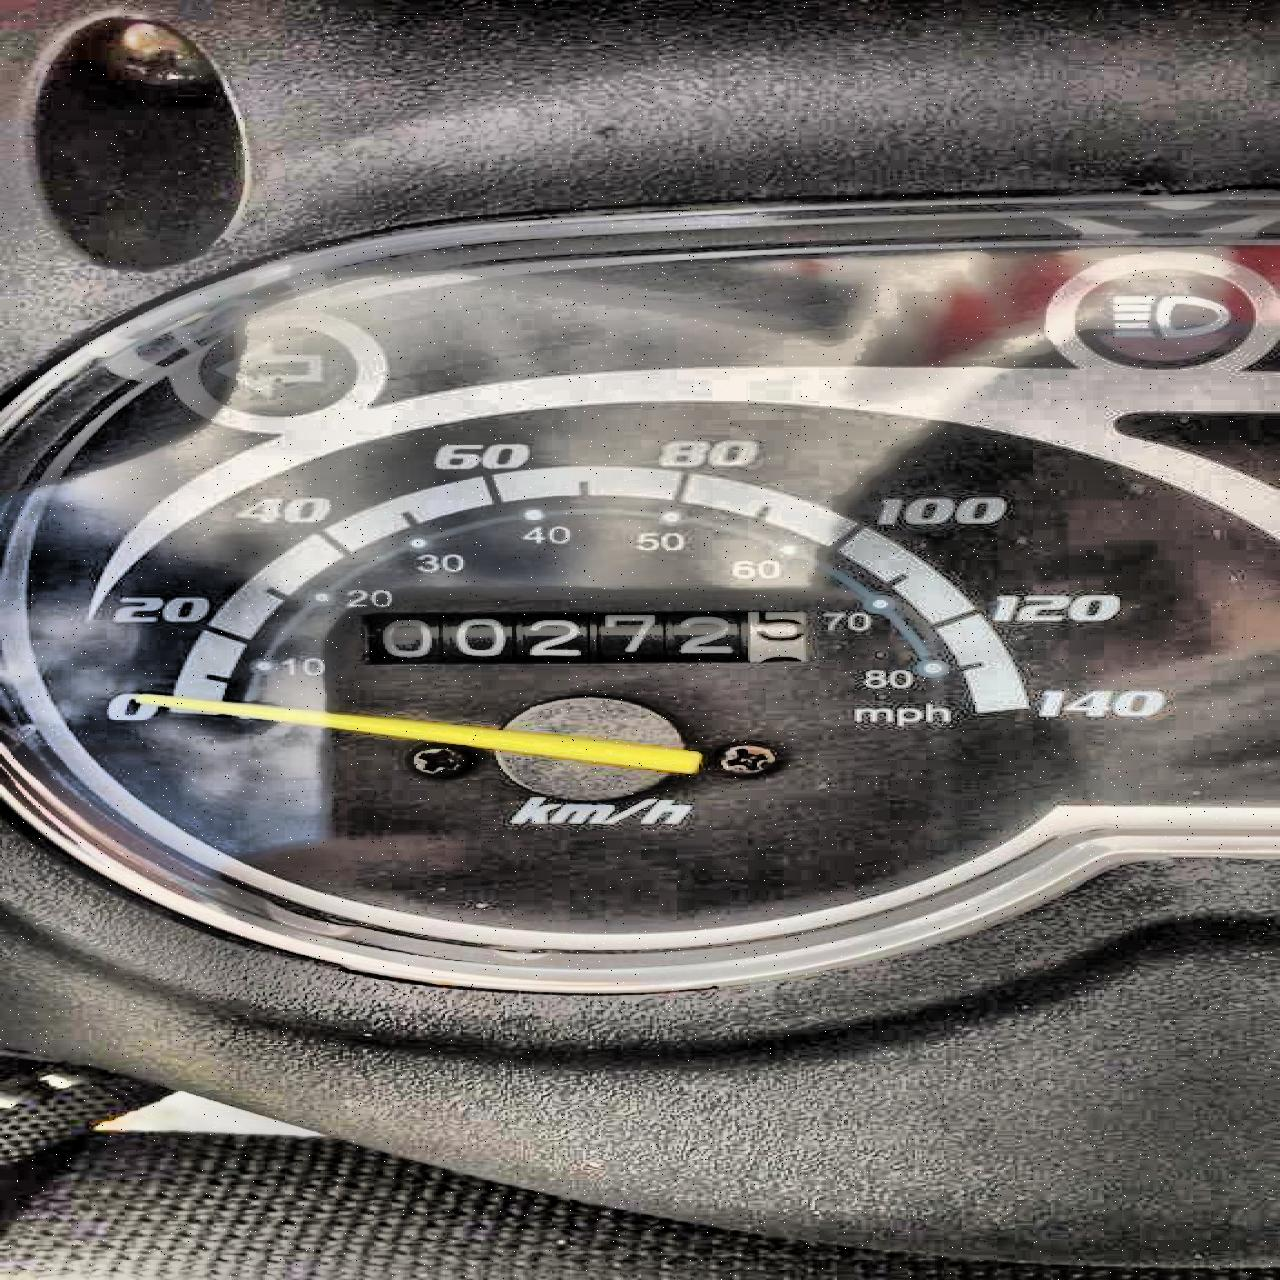0: (374, 617, 434, 658), (449, 617, 508, 656)
2: (523, 617, 586, 656), (669, 614, 733, 654)
5: (755, 608, 803, 642)
7: (599, 613, 658, 654)
odometer: (354, 606, 815, 667)
